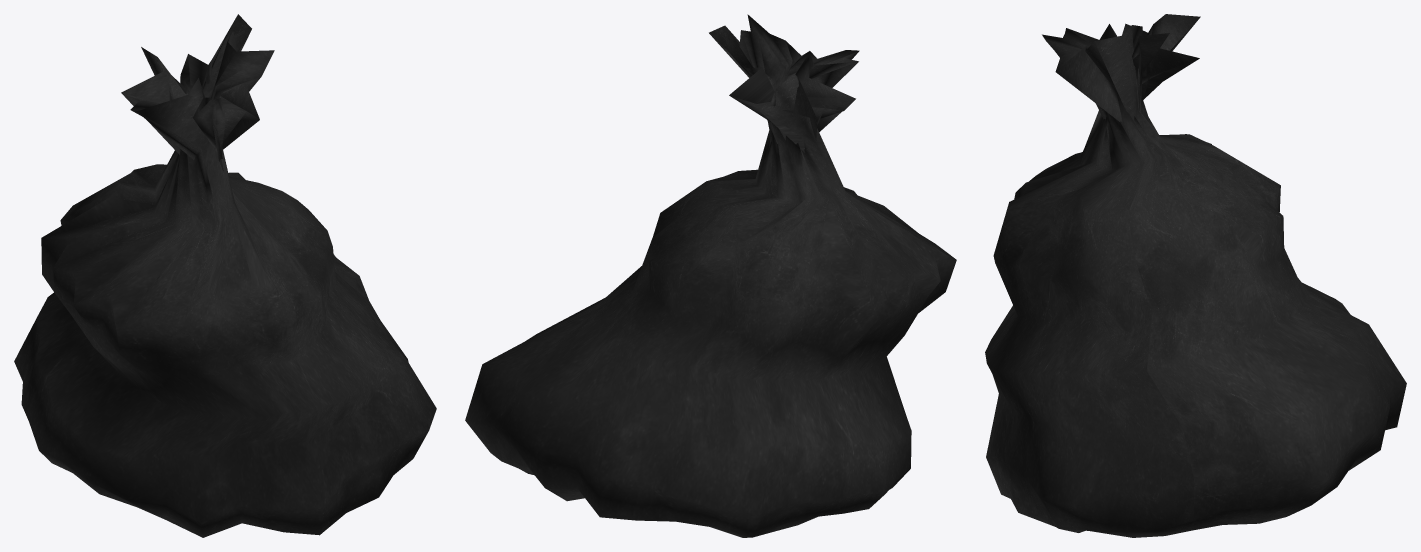
Rendered from Bolsa_Basura.obj.
3 views of the same model, side by side, from view 1: azimuth 30°, elevation 25°; view 2: azimuth 150°, elevation 25°; view 3: azimuth 270°, elevation 25° (orthographic).
Visible parts, largest first — view 1: Bolsa_Basura; view 2: Bolsa_Basura; view 3: Bolsa_Basura.
Boxes of the visible parts, <box> form: Bolsa_Basura: <box>14,14,436,537</box>; Bolsa_Basura: <box>465,14,956,537</box>; Bolsa_Basura: <box>985,14,1406,537</box>.
Size of the model in its own units: 32.49 by 39.37 by 32.51.
1 material, 1 textured.
